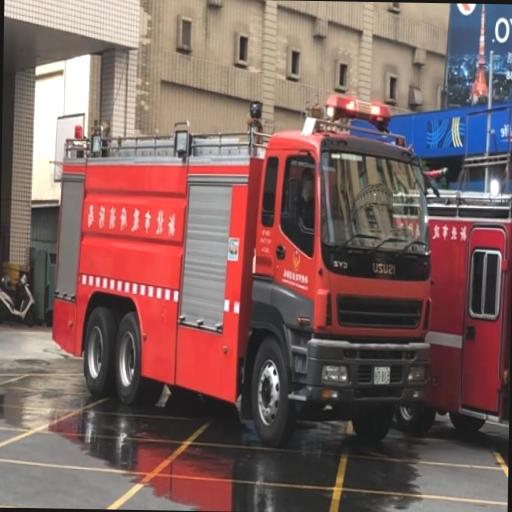fire truck: (53, 103, 431, 447)
